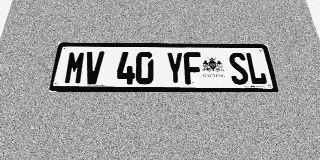0: (135, 52, 153, 84)
4: (116, 52, 136, 84)
F: (183, 52, 203, 85)
L: (245, 53, 268, 85)
M: (63, 51, 86, 84)
S: (228, 52, 250, 85)
V: (83, 51, 104, 84)
Y: (166, 52, 185, 85)
